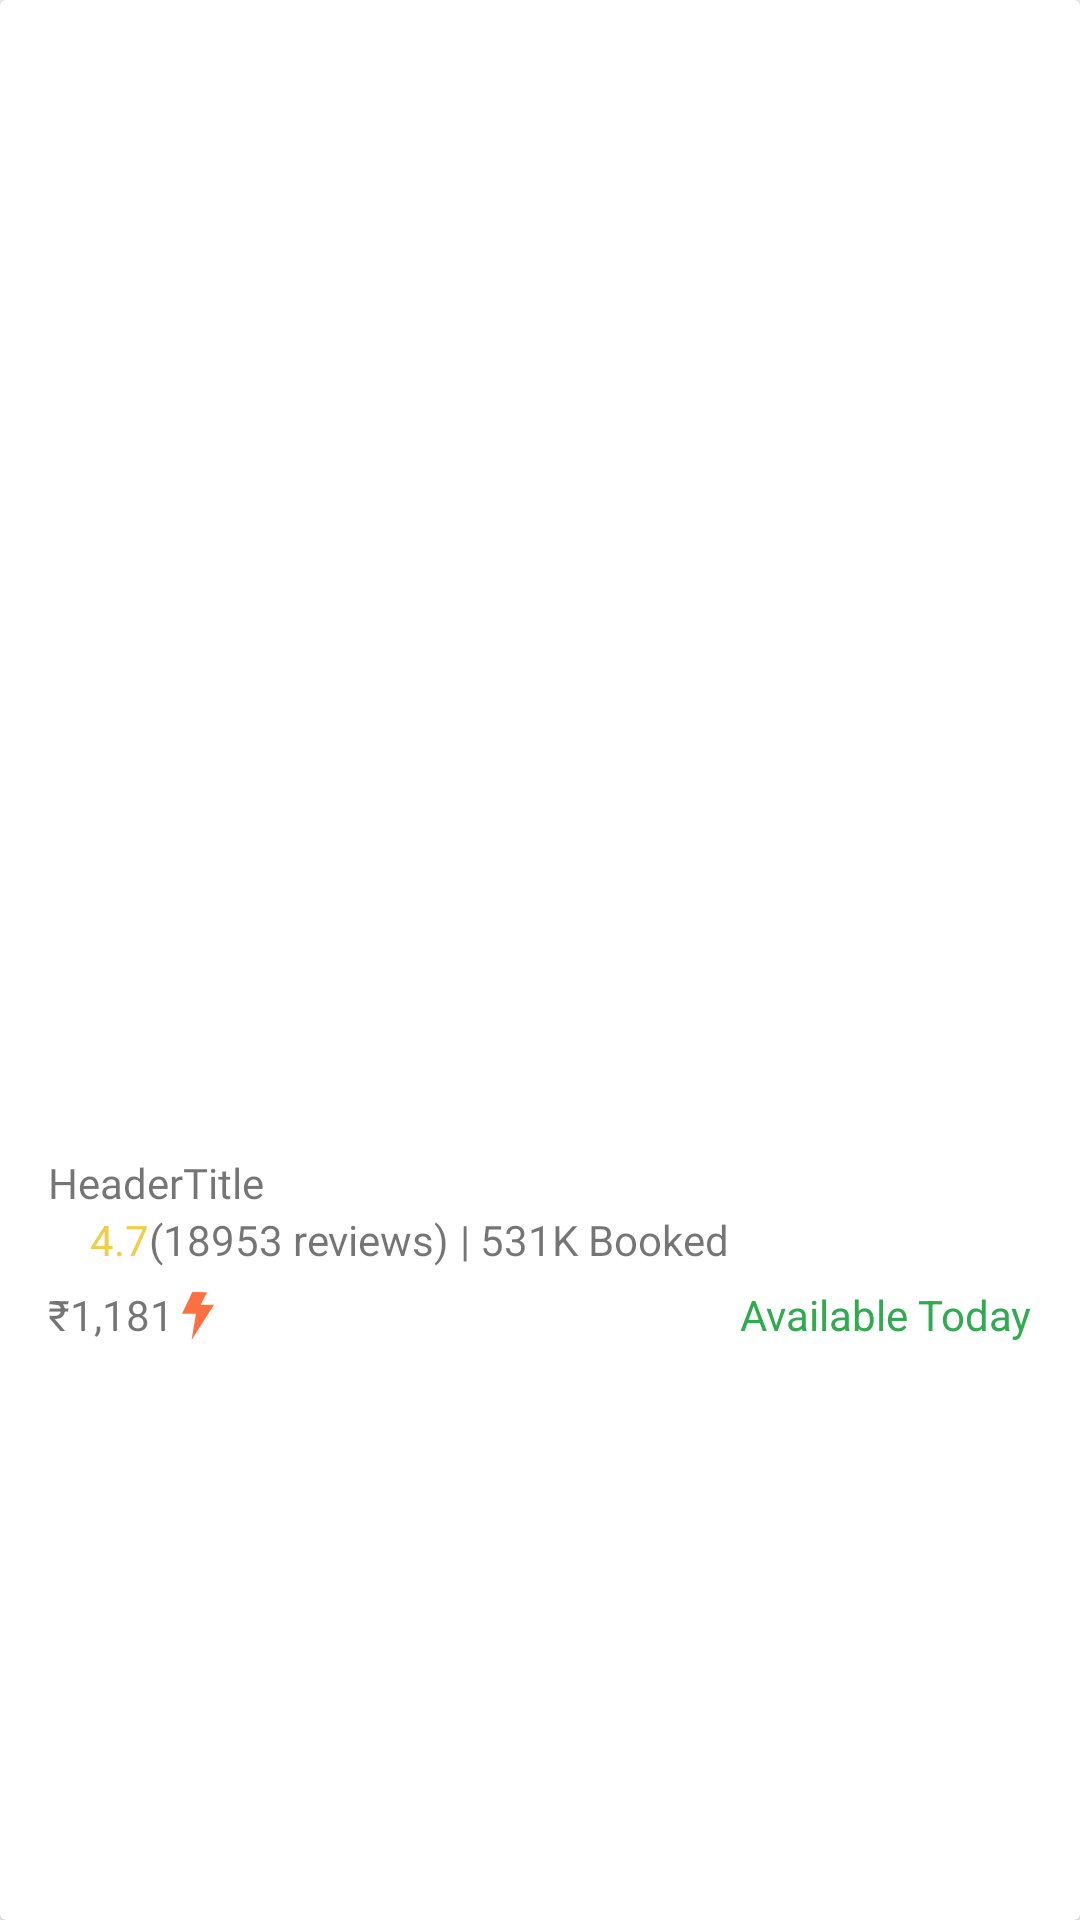

Screen size 1080*1920. Icon name, then its box in pixels as [x1, y1, x2, y2]:
flash: [182, 1292, 214, 1340]
